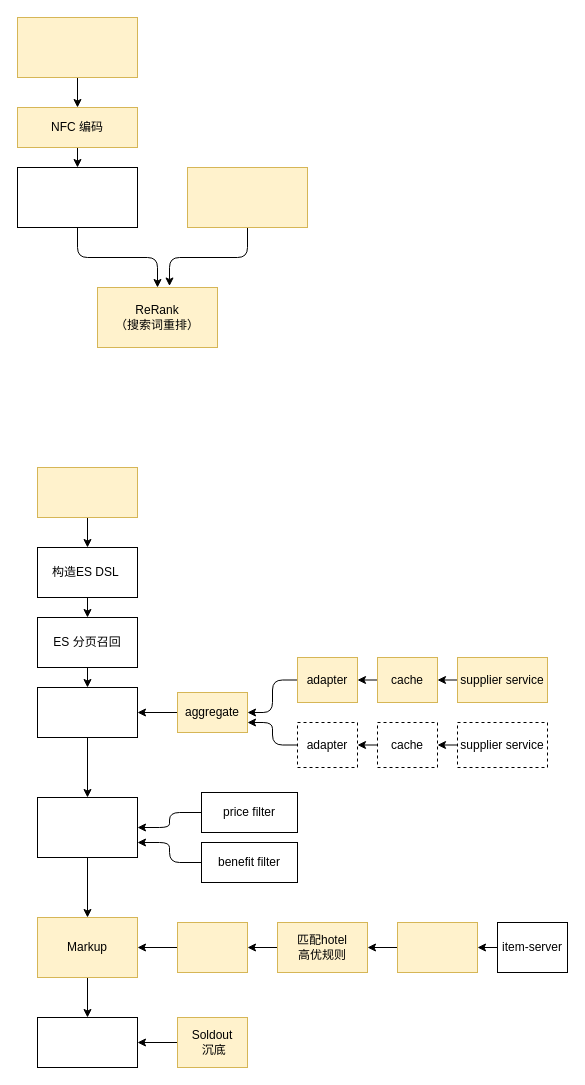
This 585x1085 diagram has some shape labels left out. The centre of each missing label's shape, as x and y in pixels:
"DetectIntention (意图识别）" goes at (x=247, y=197).
"ES 匹配召回" goes at (x=77, y=197).
"replace word (搜索词替换）" goes at (x=77, y=47).
"本地Rerank" goes at (x=87, y=1042).
"获取动态信息" goes at (x=87, y=712).
"获取所有 mark rules" goes at (x=437, y=947).
"解析abtest参数 quality_score" goes at (x=87, y=492).
"计算价格" goes at (x=212, y=947).
"过滤" goes at (x=87, y=827).
